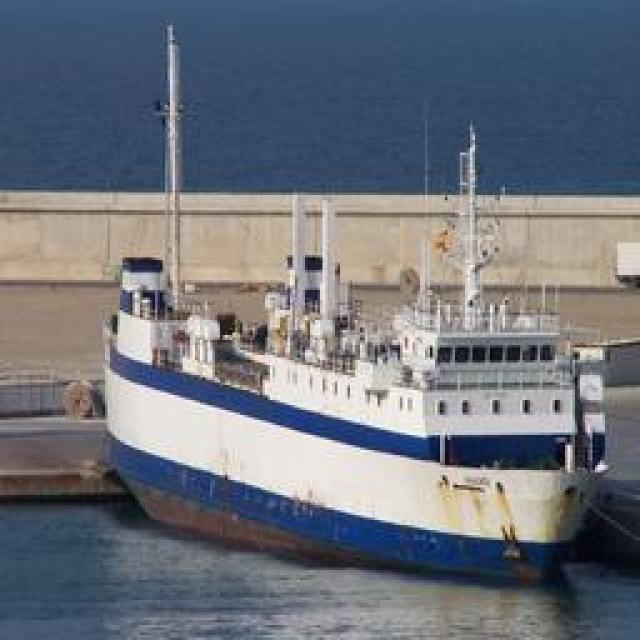CIV_Ship: (96, 160, 624, 585)
